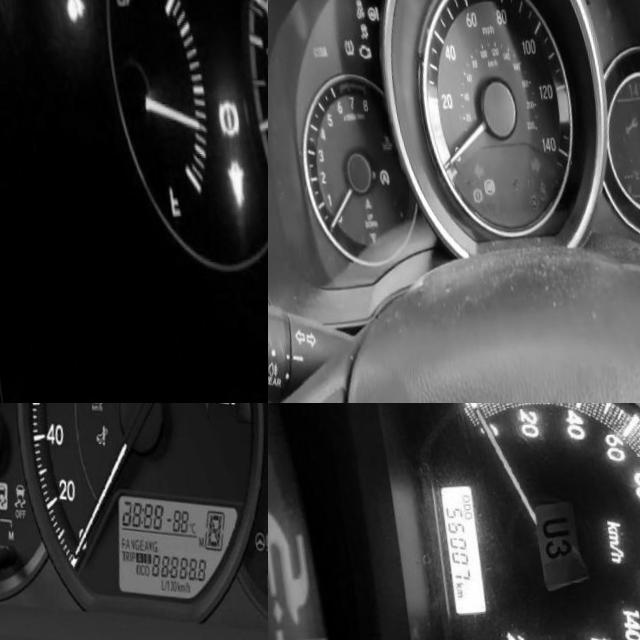Electronic Power Steering: (238, 536, 258, 562)
Engine cooling system: (376, 137, 387, 154)
Seat Belt: (213, 163, 238, 211)
